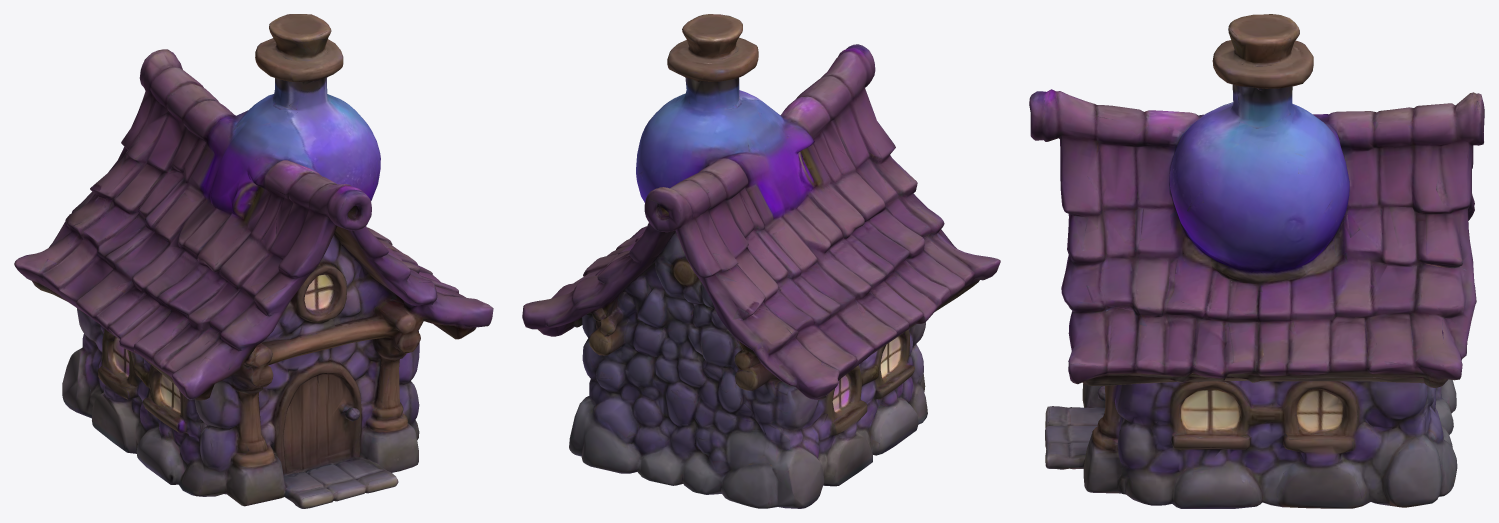
The model's file is potion-house.glb.
3 renders of one model, left to right at view 1: azimuth 30°, elevation 25°; view 2: azimuth 150°, elevation 25°; view 3: azimuth 270°, elevation 25°, orthographic. The views are drawn at different scales.
Visible parts, largest first — view 1: Mesh1.0; view 2: Mesh1.0; view 3: Mesh1.0.
Part boxes in pixels (x1,y1,x2,y2): Mesh1.0: (14,14,493,508); Mesh1.0: (522,14,1000,508); Mesh1.0: (1029,14,1484,508).
Size of the model in its own units: 1.67 by 2 by 1.85.
1 material, 1 textured.
